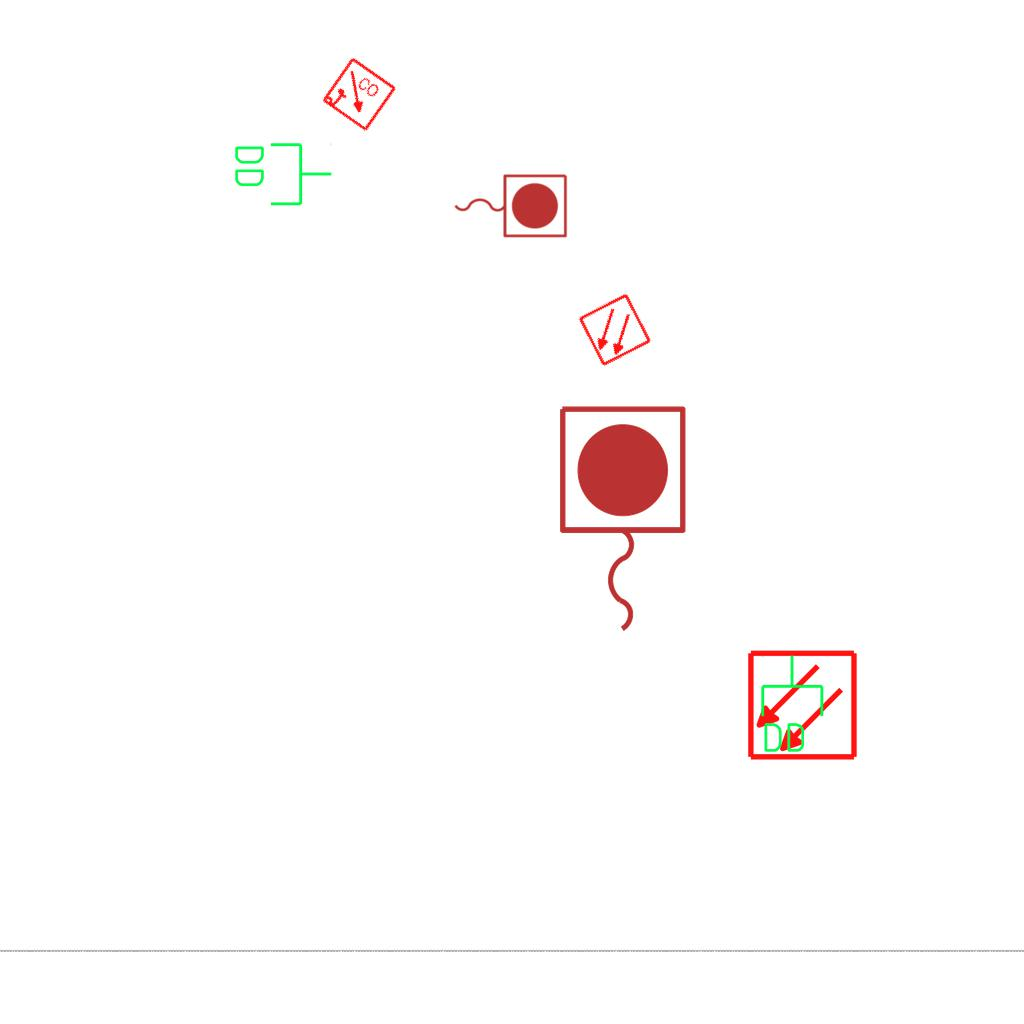Datenanschluss_zweifach: (231, 139, 334, 208), (757, 653, 826, 756)
RMO_Rauchmelder_optischer: (746, 649, 859, 762), (577, 292, 653, 368)
ROA_Rauchmelder_optisch_mit_Signalgeber_(Sockelsirene): (320, 56, 398, 134)
Zugtaster: (549, 398, 693, 642), (449, 169, 571, 241)
